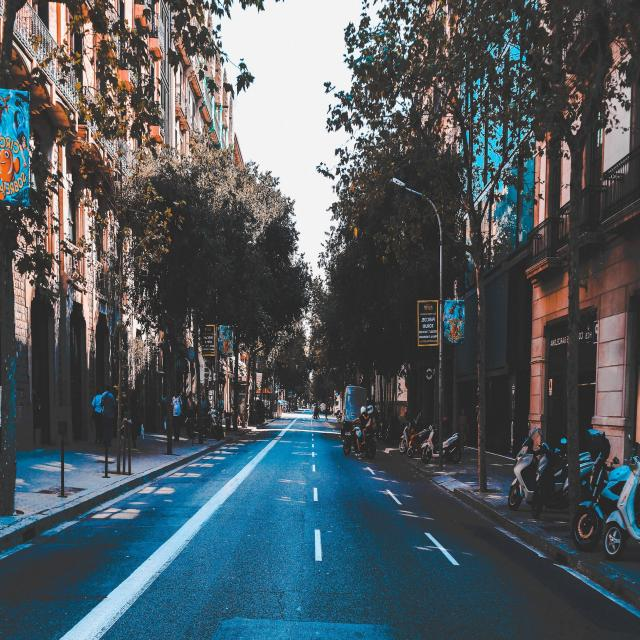adult: (101, 384, 116, 446), (352, 405, 368, 458), (92, 386, 103, 443), (171, 389, 183, 441), (362, 405, 375, 445), (458, 406, 469, 452)
